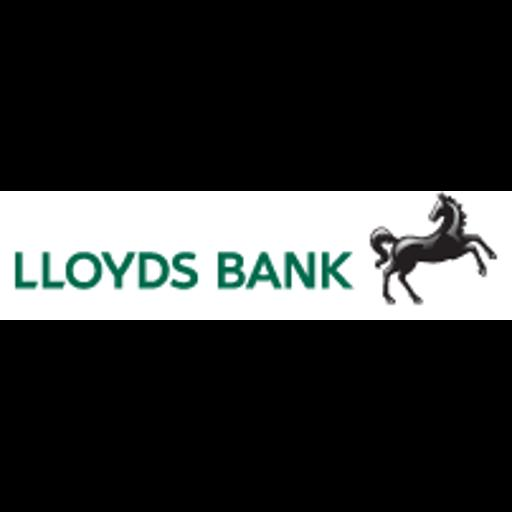Lloyds TSB Group: (0, 191, 512, 320)
